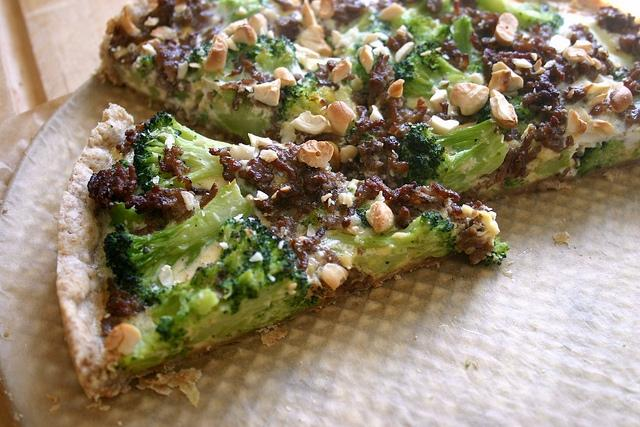broccoli: (114, 218, 320, 374), (104, 177, 255, 304), (132, 108, 234, 194), (398, 119, 511, 192), (352, 210, 458, 281), (274, 68, 363, 140), (476, 0, 564, 30), (217, 97, 272, 144), (392, 50, 443, 98), (450, 15, 484, 74), (248, 34, 296, 74), (576, 138, 626, 176), (218, 0, 264, 22), (532, 150, 570, 175), (403, 15, 436, 36)
